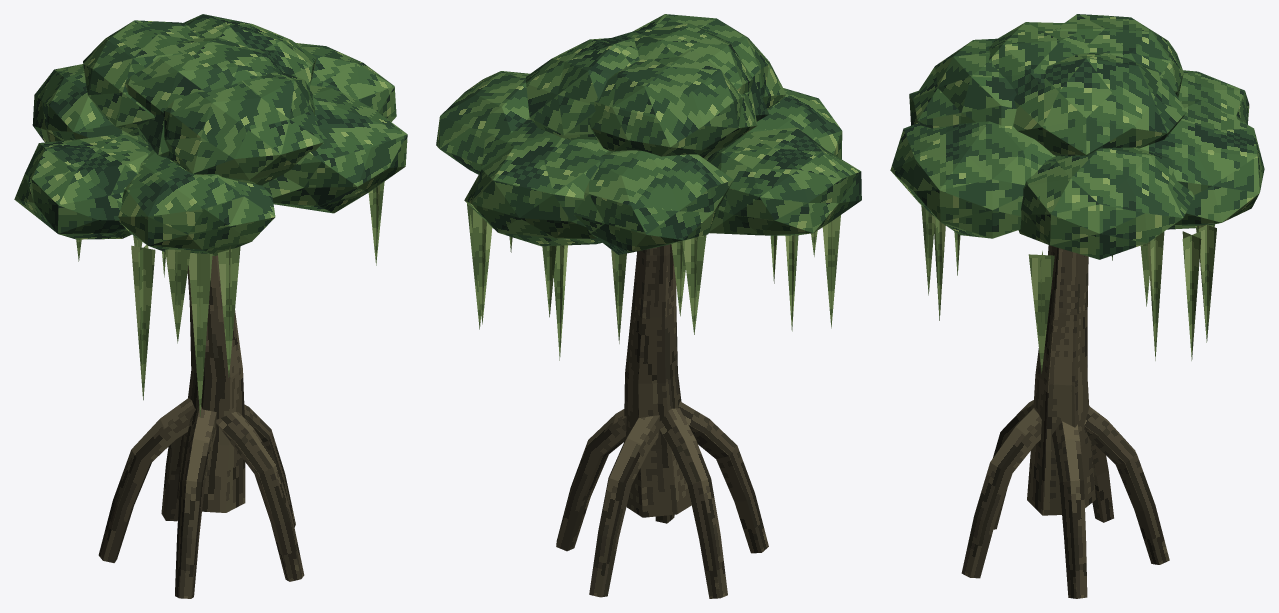
File: tree_swamp.glb
The picture shows the model from 3 angles, left to right: view 1: azimuth 30°, elevation 25°; view 2: azimuth 150°, elevation 25°; view 3: azimuth 270°, elevation 25°; orthographic projection.
Parts seen in each view (by area): view 1: tree_swamp; view 2: tree_swamp; view 3: tree_swamp.
Part boxes in pixels (x1,y1,x2,y2): tree_swamp: (14, 14, 407, 598); tree_swamp: (436, 14, 861, 598); tree_swamp: (890, 14, 1264, 598).
Size of the model in its own units: 2.23 by 3 by 1.97.
2 materials, 2 textured.
